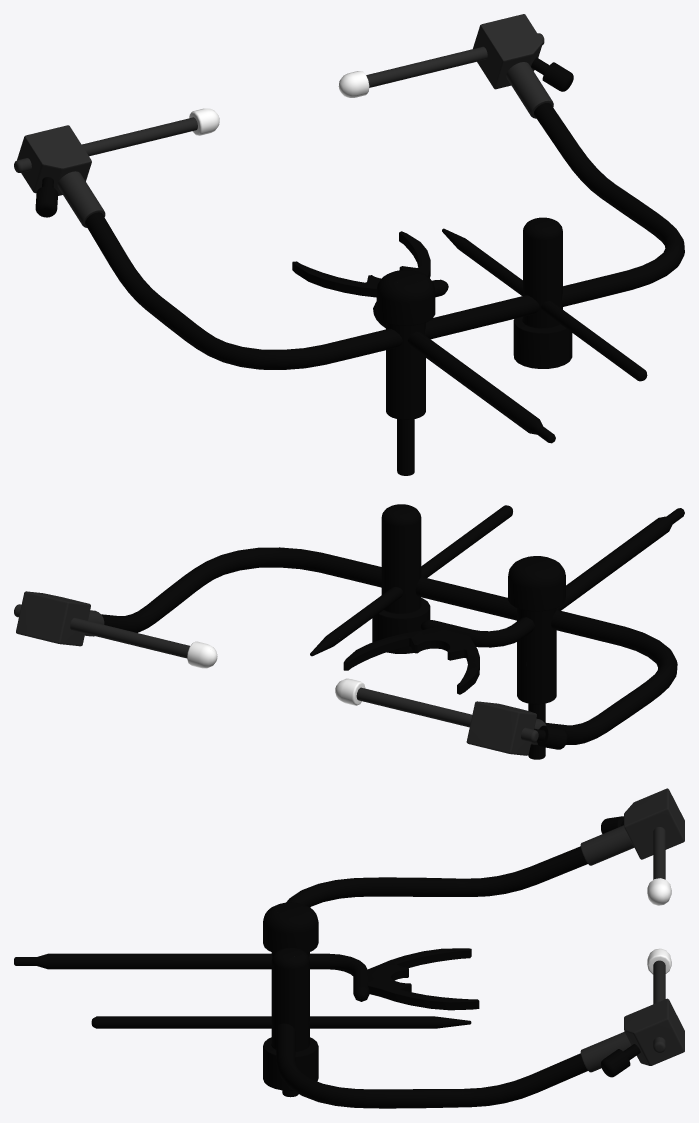
File: Facebow02.fbx
3 views of the same model, one above another, from view 1: azimuth 30°, elevation 25°; view 2: azimuth 150°, elevation 25°; view 3: azimuth 270°, elevation 25° (orthographic). The views are drawn at different scales.
Visible parts, largest first — view 1: FaceBow09, FaceBow03, FaceBow02, FaceBow016, FaceBow011, FaceBow08, FaceBow01, FaceBow06, FaceBow012, FaceBow05, FaceBow013, FaceBow07 (+2 smaller); view 2: FaceBow09, FaceBow03, FaceBow02, FaceBow016, FaceBow06, FaceBow011, FaceBow01, FaceBow08, FaceBow012, FaceBow05, FaceBow04, FaceBow010 (+1 smaller); view 3: FaceBow09, FaceBow016, FaceBow02, FaceBow01, FaceBow06, FaceBow08, FaceBow011, FaceBow03, FaceBow07, FaceBow013, FaceBow015, FaceBow05 (+2 smaller).
Part boxes in pixels (x1=…): FaceBow09: x1=85, y1=103, x2=684, y2=369; FaceBow03: x1=376, y1=270, x2=435, y2=475; FaceBow02: x1=513, y1=217, x2=572, y2=368; FaceBow016: x1=373, y1=279, x2=555, y2=443; FaceBow011: x1=473, y1=14, x2=542, y2=89; FaceBow08: x1=17, y1=125, x2=91, y2=195; FaceBow01: x1=442, y1=228, x2=647, y2=381; FaceBow06: x1=292, y1=231, x2=430, y2=297; FaceBow012: x1=14, y1=117, x2=197, y2=172; FaceBow05: x1=366, y1=33, x2=544, y2=87; FaceBow013: x1=506, y1=62, x2=553, y2=118; FaceBow07: x1=57, y1=171, x2=105, y2=227; FaceBow09: x1=101, y1=547, x2=677, y2=744; FaceBow03: x1=508, y1=556, x2=565, y2=759; FaceBow02: x1=372, y1=504, x2=430, y2=653; FaceBow016: x1=420, y1=508, x2=684, y2=647; FaceBow06: x1=343, y1=627, x2=479, y2=694; FaceBow011: x1=16, y1=591, x2=90, y2=646; FaceBow01: x1=310, y1=505, x2=512, y2=656; FaceBow08: x1=466, y1=701, x2=536, y2=755; FaceBow012: x1=356, y1=687, x2=538, y2=742; FaceBow05: x1=14, y1=604, x2=189, y2=658; FaceBow04: x1=187, y1=641, x2=217, y2=668; FaceBow010: x1=534, y1=725, x2=567, y2=749; FaceBow09: x1=276, y1=846, x2=587, y2=1108; FaceBow016: x1=14, y1=953, x2=369, y2=1001; FaceBow02: x1=263, y1=947, x2=318, y2=1090; FaceBow01: x1=91, y1=1016, x2=471, y2=1028; FaceBow06: x1=367, y1=948, x2=479, y2=1010; FaceBow08: x1=624, y1=788, x2=684, y2=859; FaceBow011: x1=624, y1=998, x2=684, y2=1065; FaceBow03: x1=263, y1=902, x2=318, y2=1097; FaceBow07: x1=580, y1=825, x2=634, y2=865; FaceBow013: x1=580, y1=1032, x2=631, y2=1072; FaceBow015: x1=601, y1=1044, x2=640, y2=1077; FaceBow05: x1=653, y1=960, x2=665, y2=1052.
Bounding box in the file's own units: 14.07 × 5.9 × 16.13.
Materials: 1 (1 with a texture image).
